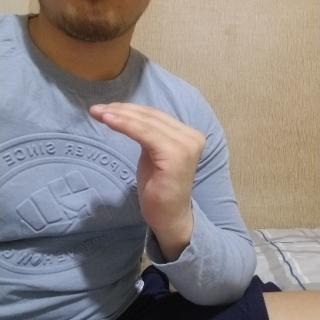HAA: (86, 96, 212, 225)
